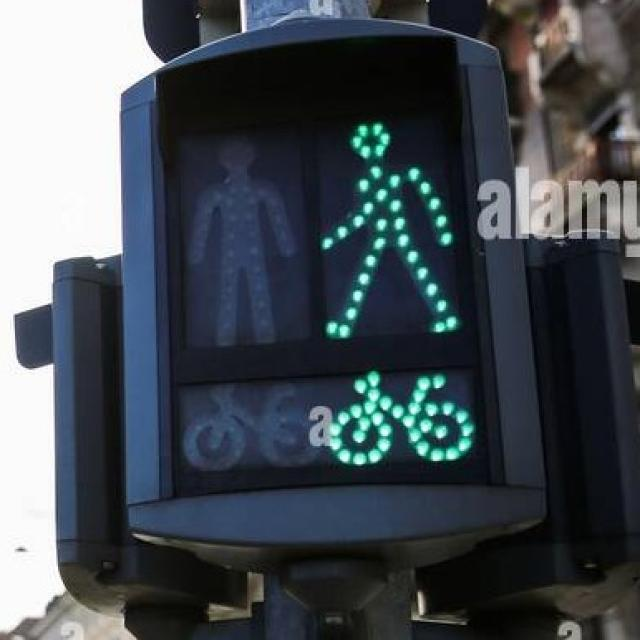green_light: (308, 106, 462, 340)
